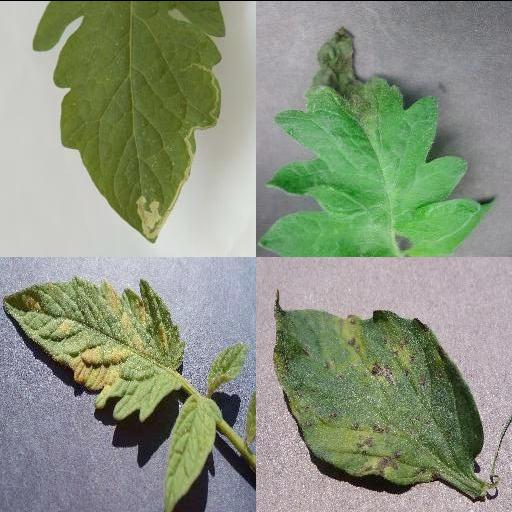Healthy: (162, 394, 218, 512)
Late Blight: (256, 26, 498, 256)
Leaf Miner: (32, 0, 226, 244)
Leaf Mold: (3, 276, 181, 420)
Septoria: (269, 289, 483, 487)
